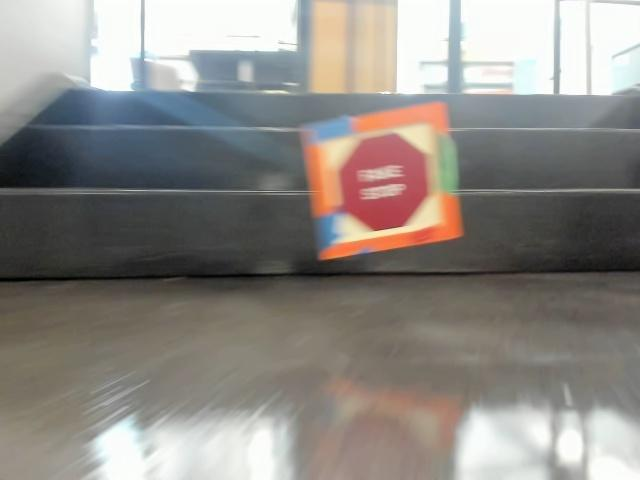Fake Stop: (330, 142, 423, 235)
